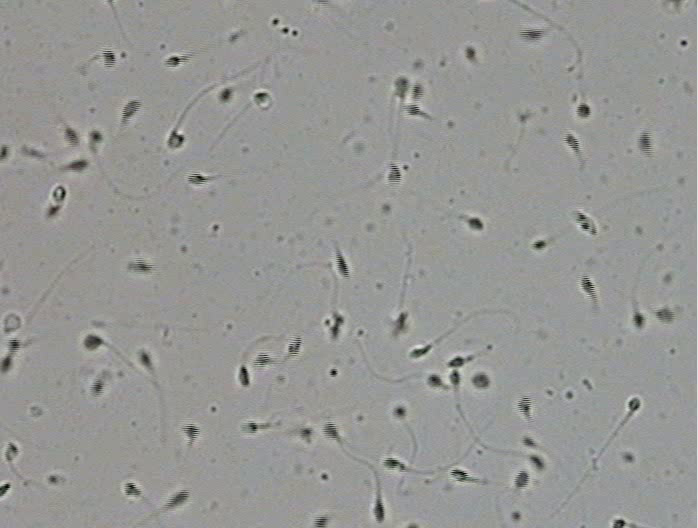S: (574, 211, 597, 235), (121, 100, 141, 120), (167, 490, 189, 508), (335, 253, 350, 279), (563, 133, 580, 153), (182, 423, 200, 441), (129, 258, 152, 272), (387, 163, 402, 184), (329, 315, 343, 337), (581, 274, 595, 296), (638, 132, 652, 154), (167, 131, 185, 148), (64, 127, 80, 146), (514, 470, 530, 489), (656, 308, 675, 324), (83, 335, 103, 350), (517, 396, 532, 416), (394, 77, 409, 97), (410, 345, 432, 358), (253, 352, 272, 367), (5, 441, 19, 461), (373, 500, 385, 523), (238, 365, 251, 386), (323, 421, 338, 439), (288, 337, 302, 356), (394, 313, 408, 332), (519, 29, 543, 40), (473, 372, 489, 388), (102, 49, 116, 67), (90, 379, 104, 397), (123, 482, 141, 496), (529, 454, 545, 469), (576, 102, 591, 118), (70, 159, 88, 172), (311, 515, 329, 528), (451, 469, 469, 482), (187, 172, 206, 184), (53, 185, 66, 202), (467, 217, 483, 230), (632, 312, 645, 328), (219, 87, 232, 102), (88, 130, 103, 143), (7, 338, 20, 353), (242, 421, 257, 434), (427, 374, 442, 387), (254, 92, 270, 104), (383, 457, 399, 469), (404, 103, 420, 115), (411, 83, 423, 99), (164, 56, 181, 67), (448, 356, 465, 367), (628, 397, 641, 411), (297, 427, 312, 439), (449, 369, 460, 385), (522, 437, 537, 448), (532, 239, 547, 250), (1, 357, 12, 371), (47, 205, 60, 216), (1, 482, 11, 496), (394, 406, 406, 417), (465, 47, 476, 59), (140, 352, 150, 365), (612, 519, 626, 528), (1, 146, 7, 161), (319, 1, 329, 5)
